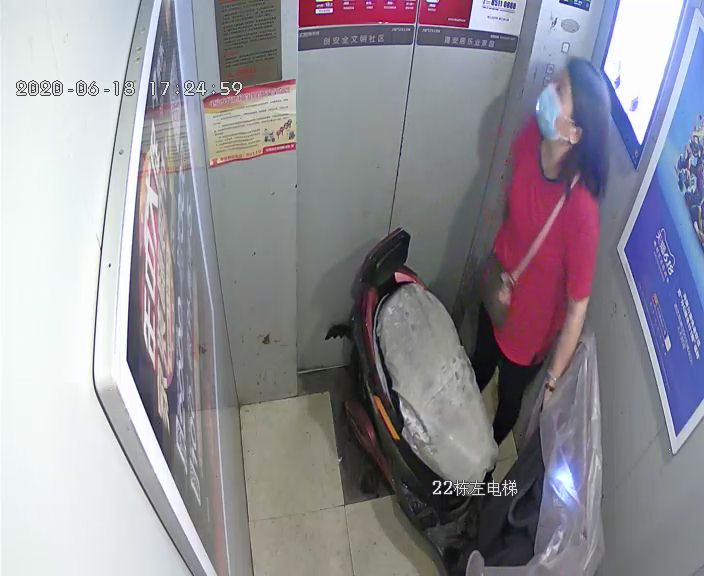Electric-bicycle: (345, 238, 598, 573)
